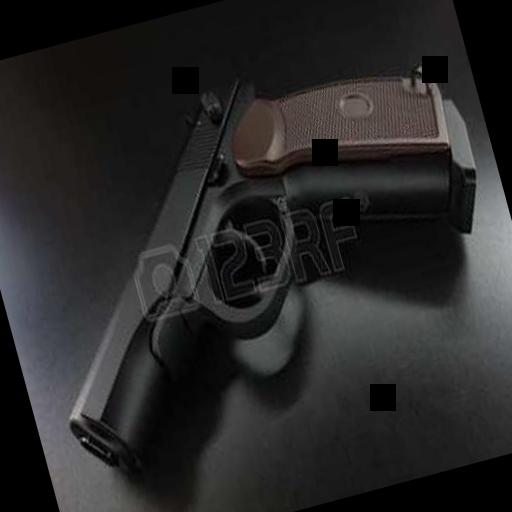Handgun: (0, 17, 512, 491)
